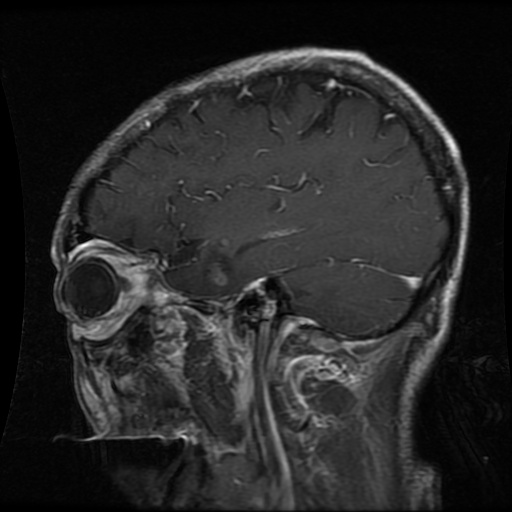glioma: (204, 249, 236, 292)
